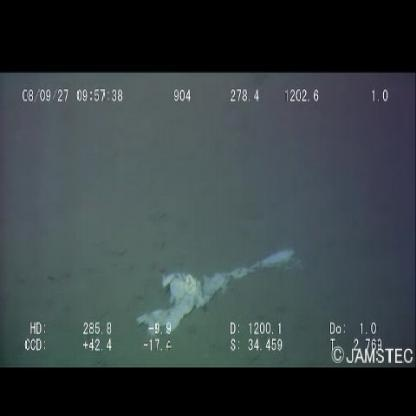Rác: (136, 249, 300, 337)
